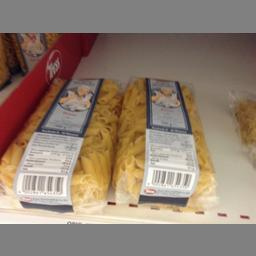pasta: (112, 66, 221, 212), (0, 74, 115, 208)
